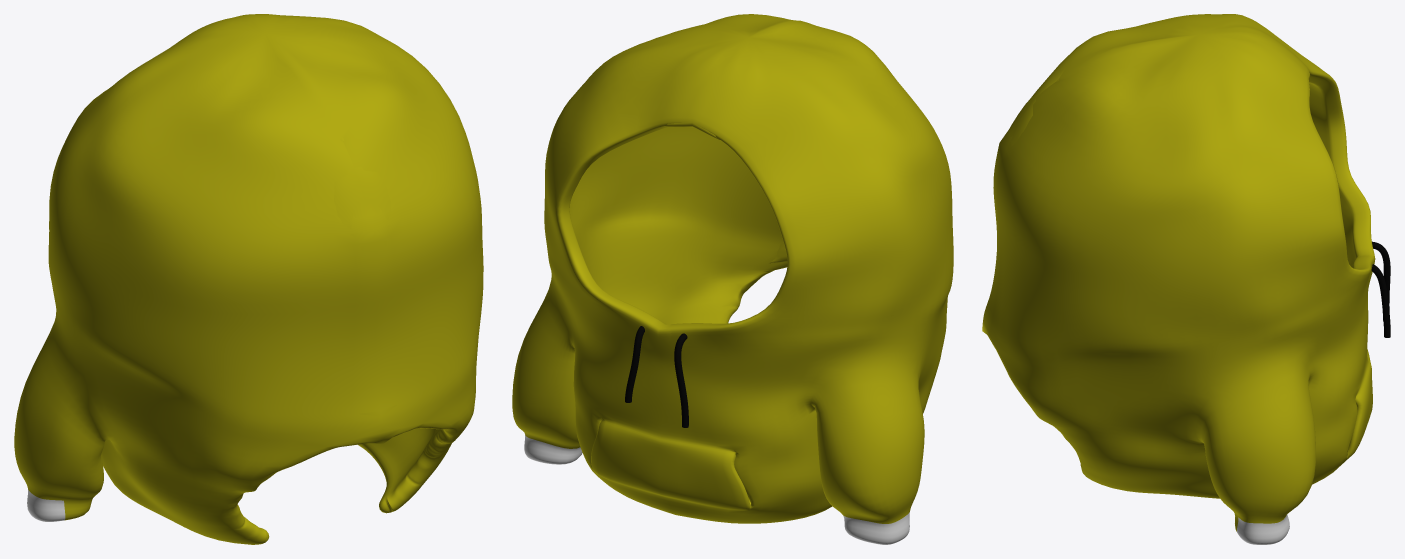
Rendered from bum_ghost_hoodie.fbx.
3 renders of one model, left to right at view 1: azimuth 30°, elevation 25°; view 2: azimuth 150°, elevation 25°; view 3: azimuth 270°, elevation 25°, orthographic. The views are drawn at different scales.
Visible parts, largest first — view 1: Hoodie; view 2: Hoodie, String, String2; view 3: Hoodie, String2.
Boxes of the visible parts, x1,y1,x2,y2 form: Hoodie: [14, 14, 483, 544]; Hoodie: [512, 14, 953, 544]; String: [674, 333, 688, 427]; String2: [625, 326, 644, 402]; Hoodie: [982, 14, 1375, 544]; String2: [1371, 264, 1390, 337].
Size of the model in its own units: 234 by 248 by 217.
